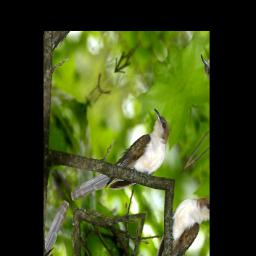Cuckoo: (69, 96, 180, 243)
